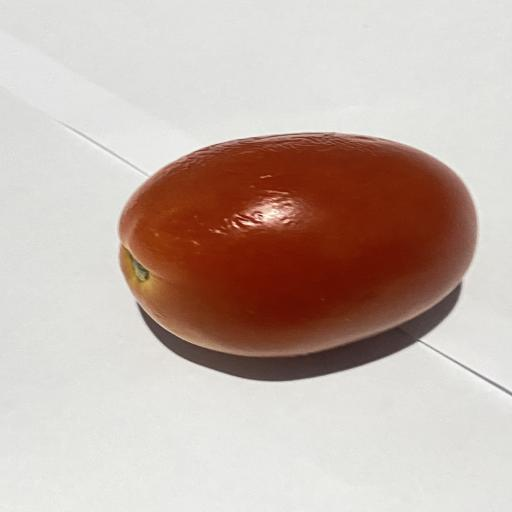overipe: (119, 133, 477, 357), (119, 133, 476, 357), (119, 133, 476, 356), (139, 284, 462, 381), (143, 191, 432, 282), (362, 171, 367, 174), (154, 220, 157, 225), (269, 148, 273, 150), (240, 226, 242, 229), (289, 258, 292, 259)
